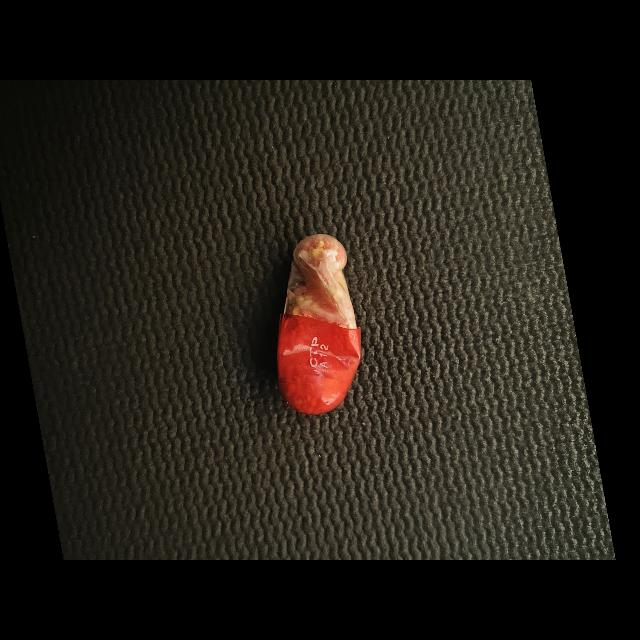Defective Capsule: (278, 234, 361, 414)
